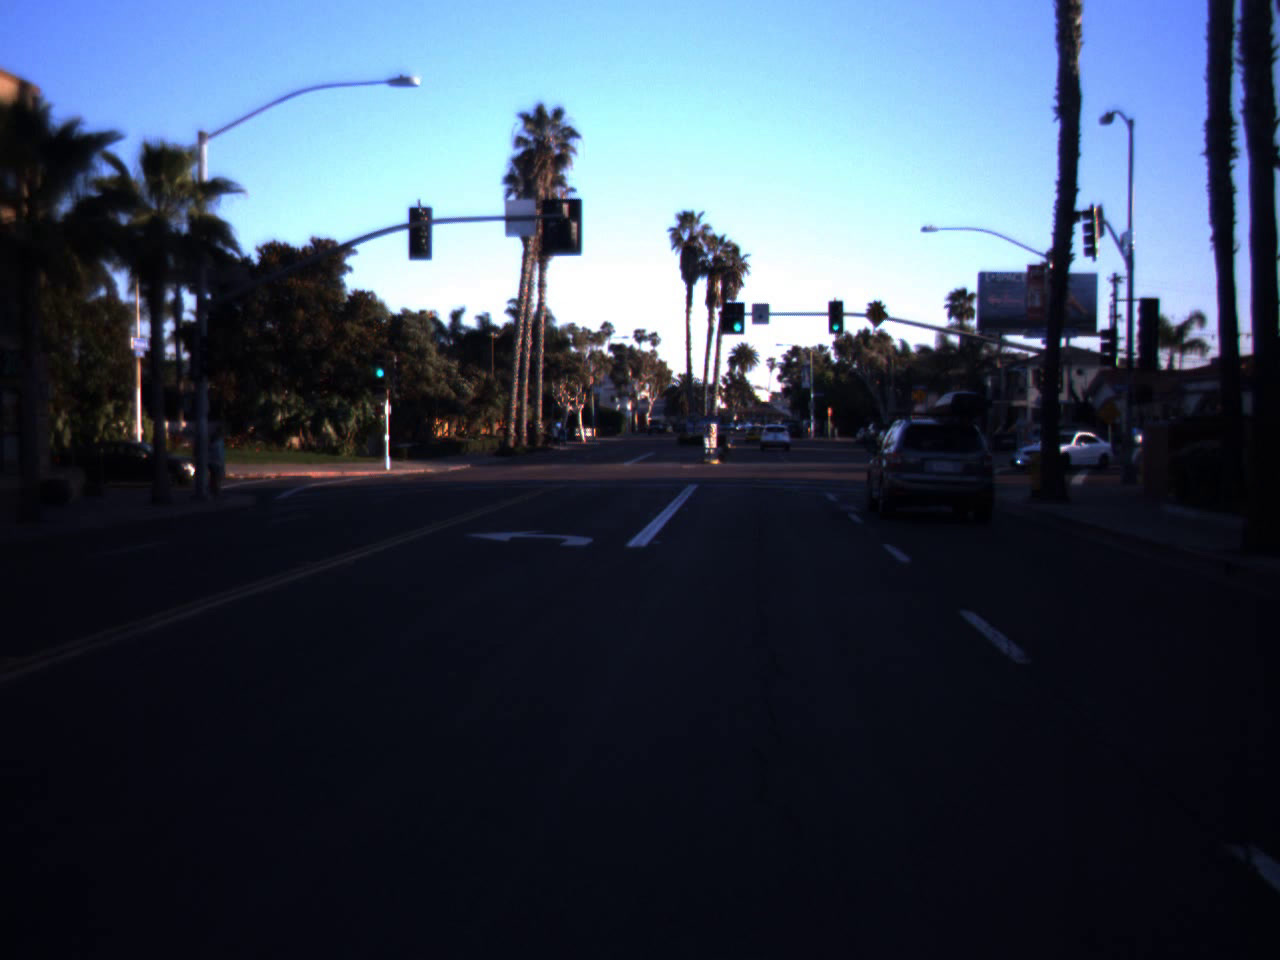go: (728, 299, 746, 334), (373, 349, 388, 379), (829, 312, 841, 332)
